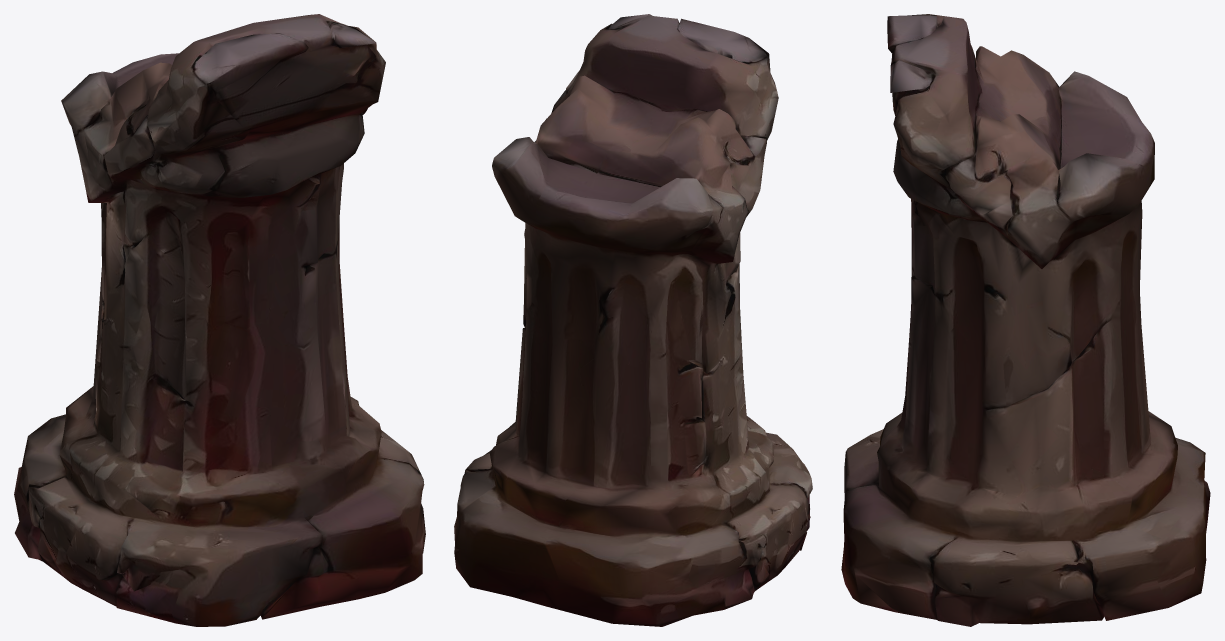
Rendered from ruin-column.glb.
The picture shows the model from 3 angles, left to right: view 1: azimuth 30°, elevation 25°; view 2: azimuth 150°, elevation 25°; view 3: azimuth 270°, elevation 25°; orthographic projection. The views are drawn at different scales.
Visible parts, largest first — view 1: tripo_node_7330834a-9ed6-4bd6-a91b-8df8c3893b5a; view 2: tripo_node_7330834a-9ed6-4bd6-a91b-8df8c3893b5a; view 3: tripo_node_7330834a-9ed6-4bd6-a91b-8df8c3893b5a.
Boxes of the visible parts, left/top/right/bottom form: tripo_node_7330834a-9ed6-4bd6-a91b-8df8c3893b5a: left=14, top=14, right=425, bottom=626; tripo_node_7330834a-9ed6-4bd6-a91b-8df8c3893b5a: left=454, top=14, right=812, bottom=626; tripo_node_7330834a-9ed6-4bd6-a91b-8df8c3893b5a: left=841, top=14, right=1210, bottom=626.
Bounding box in the file's own units: 0.6434 × 0.9994 × 0.6485.
Materials: 1 (1 with a texture image).
